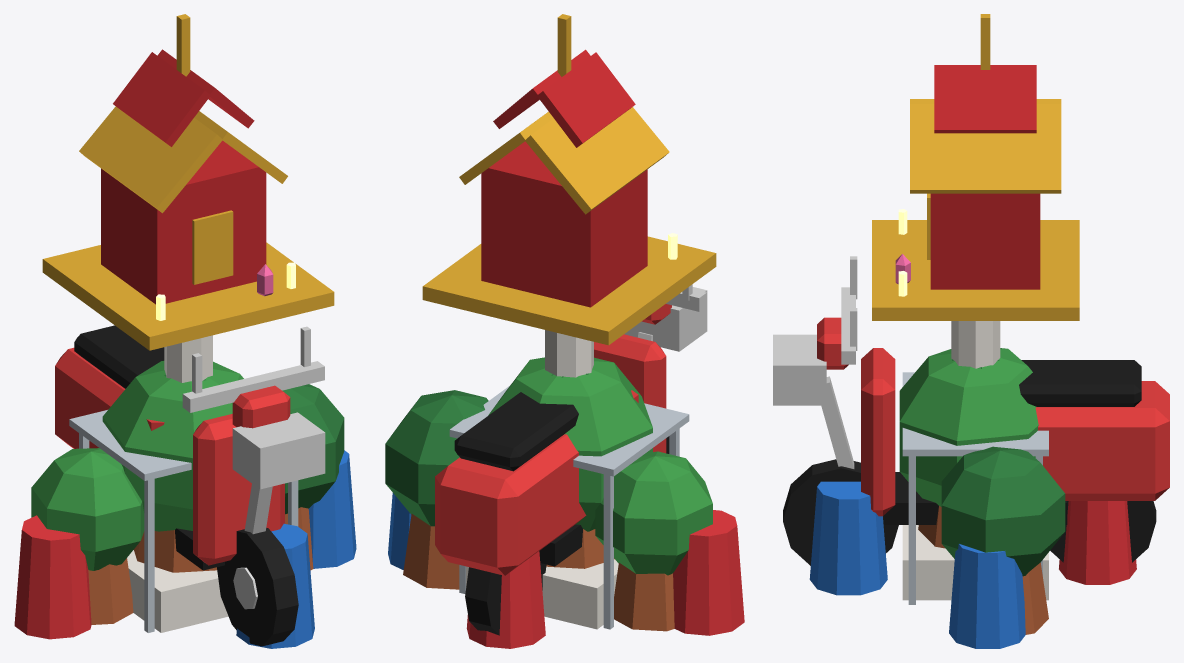
The model's file is street_kit.glb.
The picture shows the model from 3 angles, left to right: view 1: azimuth 30°, elevation 25°; view 2: azimuth 150°, elevation 25°; view 3: azimuth 270°, elevation 25°; orthographic projection. The views are drawn at different scales.
Visible parts, largest first — view 1: spirit_house, scooter, pots, stools; view 2: spirit_house, pots, scooter, stools; view 3: spirit_house, scooter, pots, stools.
Part boxes in pixels (x1,y1,x2,y2): spirit_house: [42, 14, 334, 632]; scooter: [55, 325, 325, 646]; pots: [31, 361, 344, 624]; stools: [14, 410, 356, 648]; spirit_house: [422, 14, 716, 629]; pots: [385, 357, 712, 631]; scooter: [435, 284, 707, 635]; stools: [388, 385, 744, 648]; spirit_house: [872, 14, 1079, 600]; scooter: [773, 256, 1169, 565]; pots: [899, 348, 1065, 634]; stools: [809, 372, 1136, 648].
Bounding box in the file's own units: 1.54 × 2.5 × 1.62.
